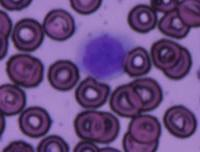L: (76, 30, 128, 80)
